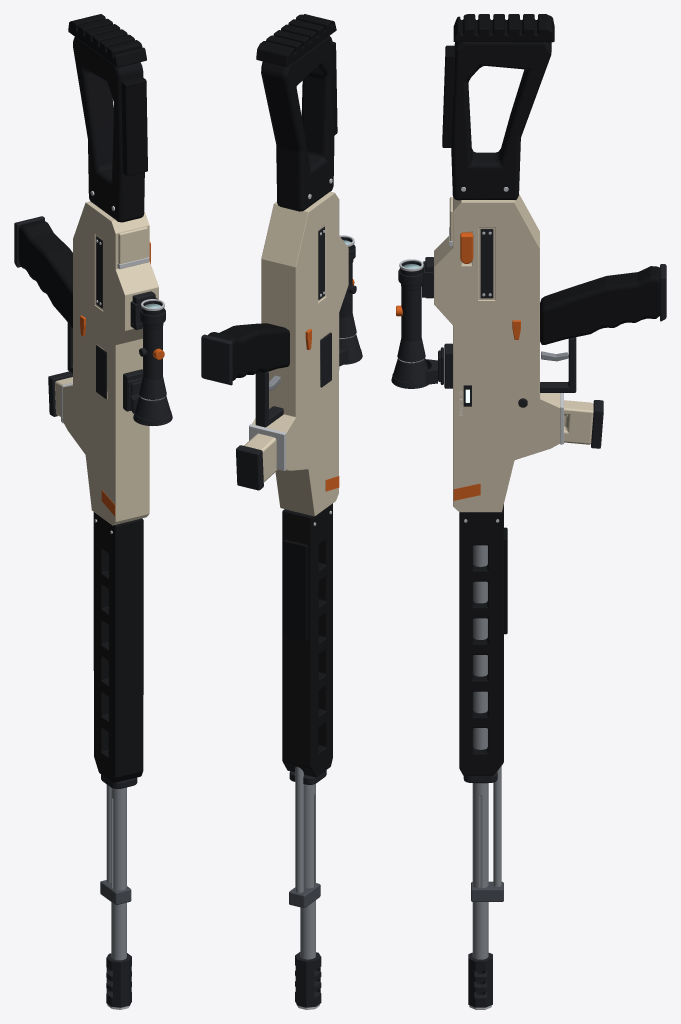
The model's file is BASIC-03-v2.1.fbx.
The picture shows the model from 3 angles, left to right: view 1: azimuth 30°, elevation 25°; view 2: azimuth 150°, elevation 25°; view 3: azimuth 270°, elevation 25°; orthographic projection. The views are drawn at different scales.
Parts seen in each view (by area): view 1: receiver, handguard, stock, grip, barrel, cheek_pad, butt_pad, muzzle, top_cover, scope_tube, scope_objective_b, gas_tube (+5 smaller); view 2: receiver, handguard, stock, grip, handguard_grip, butt_pad, barrel, grip_cap, muzzle, gas_tube, magazine_base, trigger_guard (+6 smaller); view 3: receiver, handguard, stock, grip, barrel, butt_pad, muzzle, magazine, scope_tube, cheek_pad, gas_tube, side_panel_l (+2 smaller).
Part boxes in pixels (x1,y1,x2,y2): receiver: [63, 201, 158, 525]; handguard: [93, 512, 143, 782]; stock: [73, 37, 144, 222]; grip: [18, 220, 72, 328]; barrel: [111, 787, 126, 960]; cheek_pad: [121, 77, 147, 176]; butt_pad: [68, 14, 146, 67]; muzzle: [106, 953, 131, 1007]; top_cover: [118, 226, 147, 264]; scope_tube: [143, 326, 162, 380]; scope_objective_b: [135, 396, 170, 419]; gas_tube: [106, 784, 111, 882]; receiver: [252, 191, 348, 516]; handguard: [282, 503, 332, 777]; stock: [261, 36, 334, 211]; grip: [208, 323, 289, 380]; handguard_grip: [283, 539, 308, 641]; butt_pad: [256, 14, 336, 66]; barrel: [300, 783, 315, 959]; grip_cap: [201, 334, 232, 385]; muzzle: [295, 952, 321, 1007]; gas_tube: [295, 766, 303, 892]; magazine_base: [236, 445, 263, 490]; trigger_guard: [255, 372, 283, 427]; receiver: [434, 194, 560, 512]; handguard: [459, 504, 503, 776]; stock: [451, 42, 551, 200]; grip: [540, 266, 659, 344]; barrel: [472, 545, 488, 959]; butt_pad: [453, 14, 554, 42]; muzzle: [468, 952, 492, 1007]; magazine: [564, 400, 593, 444]; scope_tube: [401, 287, 421, 341]; cheek_pad: [442, 45, 455, 147]; gas_tube: [493, 766, 501, 886]; side_panel_l: [480, 229, 493, 298].
Bounding box in the file's own units: 0.047 × 1.02 × 0.2589.
